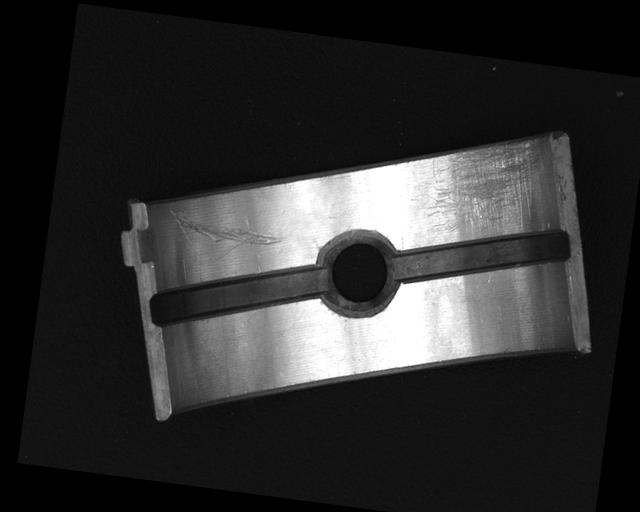gap: (147, 242, 330, 347), (388, 208, 574, 300)
hole: (314, 227, 402, 319)
nick: (161, 205, 287, 269)
scratch: (424, 123, 550, 247)
